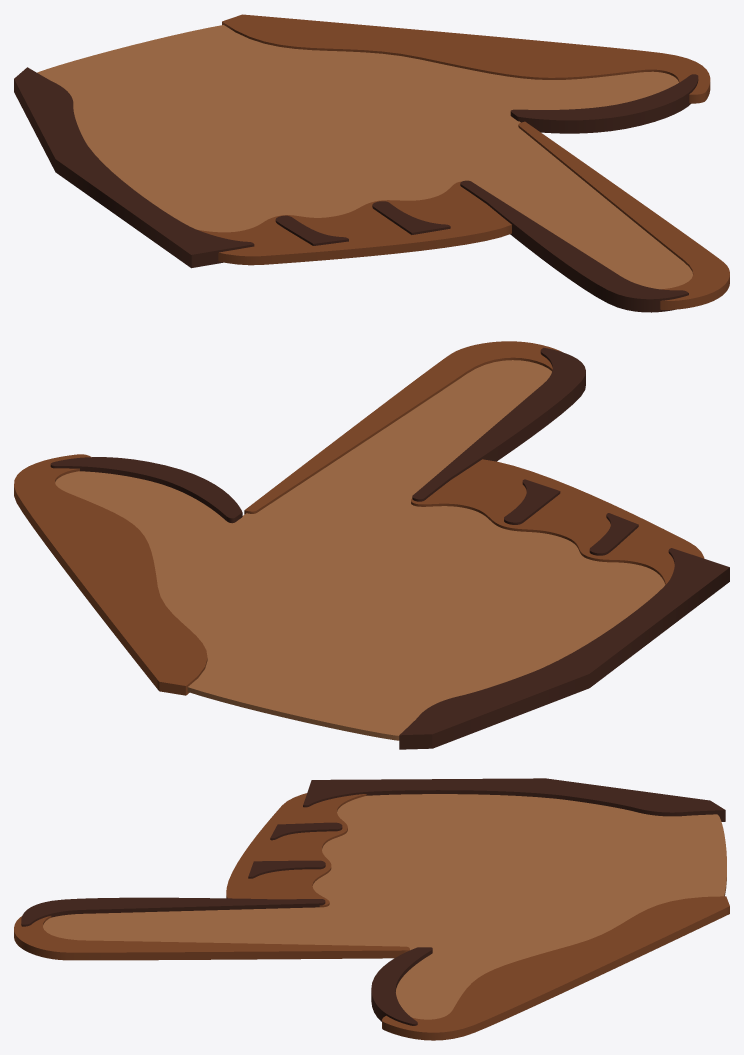
File: emoji_u1f447_1f3fe.glb
3 views of the same model, one above another, from view 1: azimuth 30°, elevation 25°; view 2: azimuth 150°, elevation 25°; view 3: azimuth 270°, elevation 25° (orthographic). The views are drawn at different scales.
Visible parts, largest first — view 1: emoji_u1f447_1f3fe; view 2: emoji_u1f447_1f3fe; view 3: emoji_u1f447_1f3fe.
Boxes of the visible parts, x1,y1,x2,y2 form: emoji_u1f447_1f3fe: (14,14,729,312); emoji_u1f447_1f3fe: (14,341,729,749); emoji_u1f447_1f3fe: (14,778,729,1040).
Size of the model in its own units: 0.0276 by 0.0006 by 0.0331.
